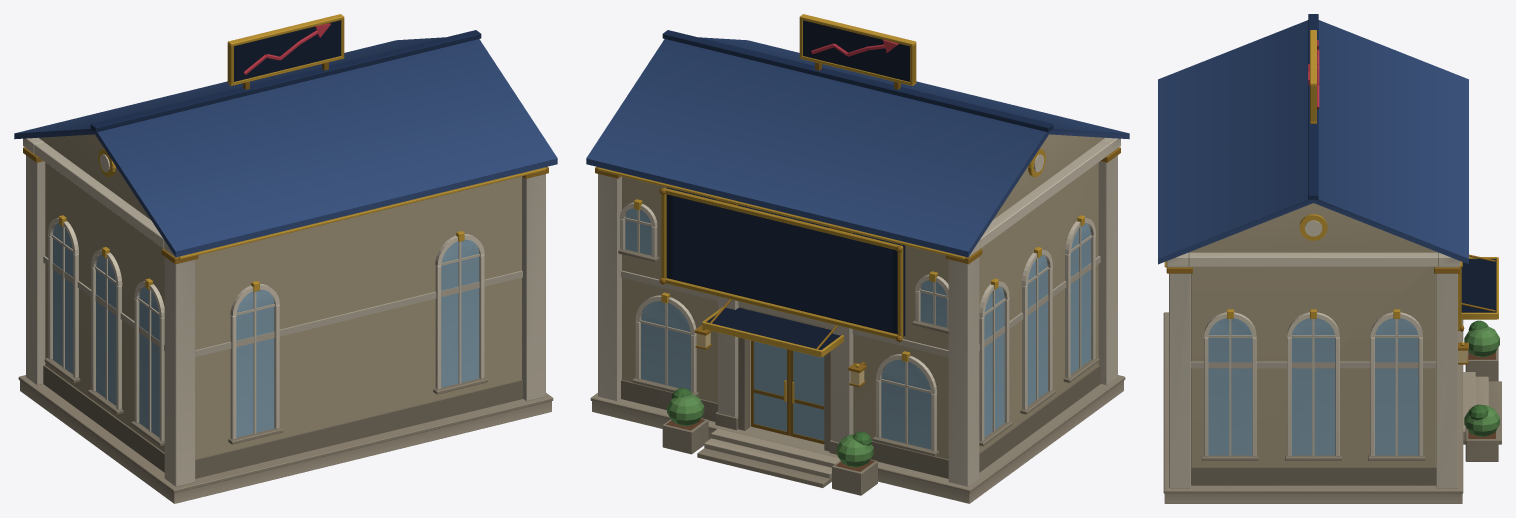
Rendered from stock_exchange.glb.
The picture shows the model from 3 angles, left to right: view 1: azimuth 30°, elevation 25°; view 2: azimuth 150°, elevation 25°; view 3: azimuth 270°, elevation 25°; orthographic projection. The views are drawn at different scales.
Parts seen in each view (by area): view 1: stock_exchange, roof; view 2: stock_exchange, roof, board_screen, doors; view 3: stock_exchange, roof.
Boxes of the visible parts, left/top/right/bottom form: stock_exchange: left=18, top=137, right=553, bottom=503; roof: left=14, top=14, right=557, bottom=257; stock_exchange: left=590, top=137, right=1125, bottom=503; roof: left=586, top=14, right=1129, bottom=257; board_screen: left=672, top=195, right=892, bottom=332; doors: left=751, top=340, right=824, bottom=444; stock_exchange: left=1163, top=252, right=1501, bottom=503; roof: left=1158, top=14, right=1468, bottom=264.
Bounding box in the file's own units: 9.8 × 9.04 × 7.85.
